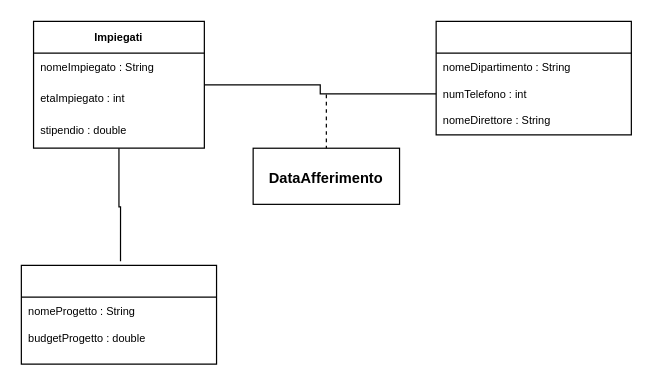
Image size: 653x389. Some labels were removed from this diagram. Each missing label, with the box of its shape:
Dipartimenti: (435, 20, 631, 135)
Progetti: (20, 264, 217, 364)
